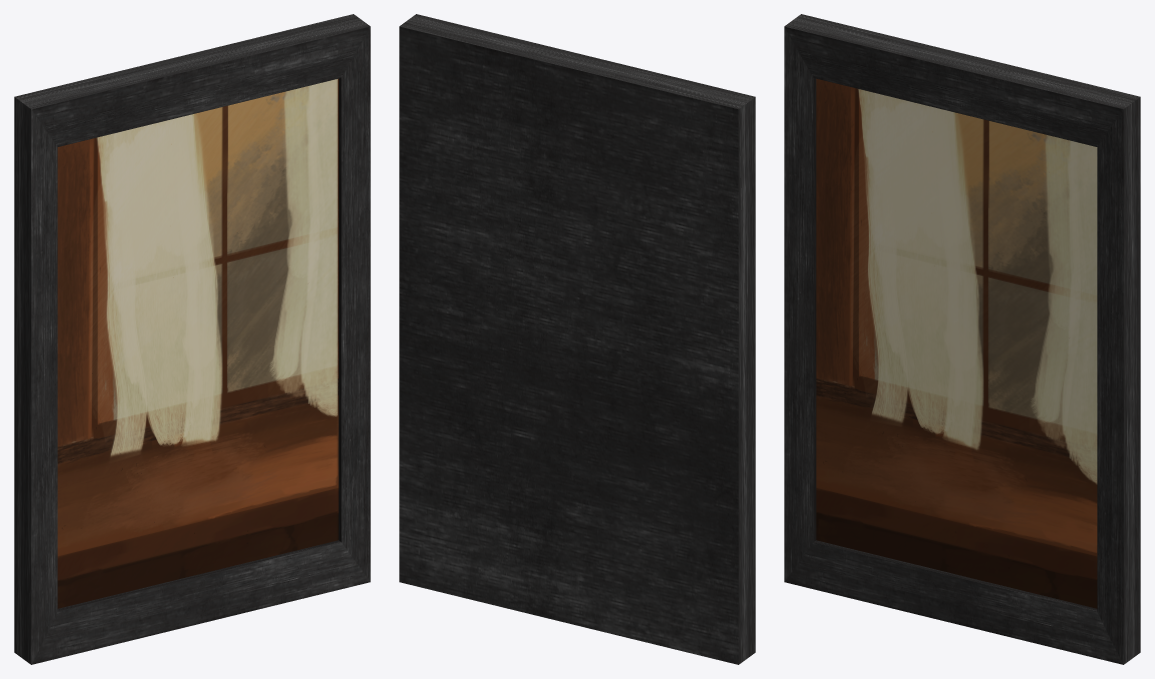
File: painting_portrait_4.fbx
The picture shows the model from 3 angles, left to right: view 1: azimuth 30°, elevation 25°; view 2: azimuth 150°, elevation 25°; view 3: azimuth 330°, elevation 25°; orthographic projection.
Visible parts, largest first — view 1: painting_Var4; view 2: painting_Var4; view 3: painting_Var4.
Part boxes in pixels (bbox=[...]): painting_Var4: bbox=[14, 14, 370, 664]; painting_Var4: bbox=[399, 14, 755, 664]; painting_Var4: bbox=[784, 14, 1140, 664].
Size of the model in its own units: 59.07 by 92.39 by 5.15.
Materials: 1 (1 with a texture image).
